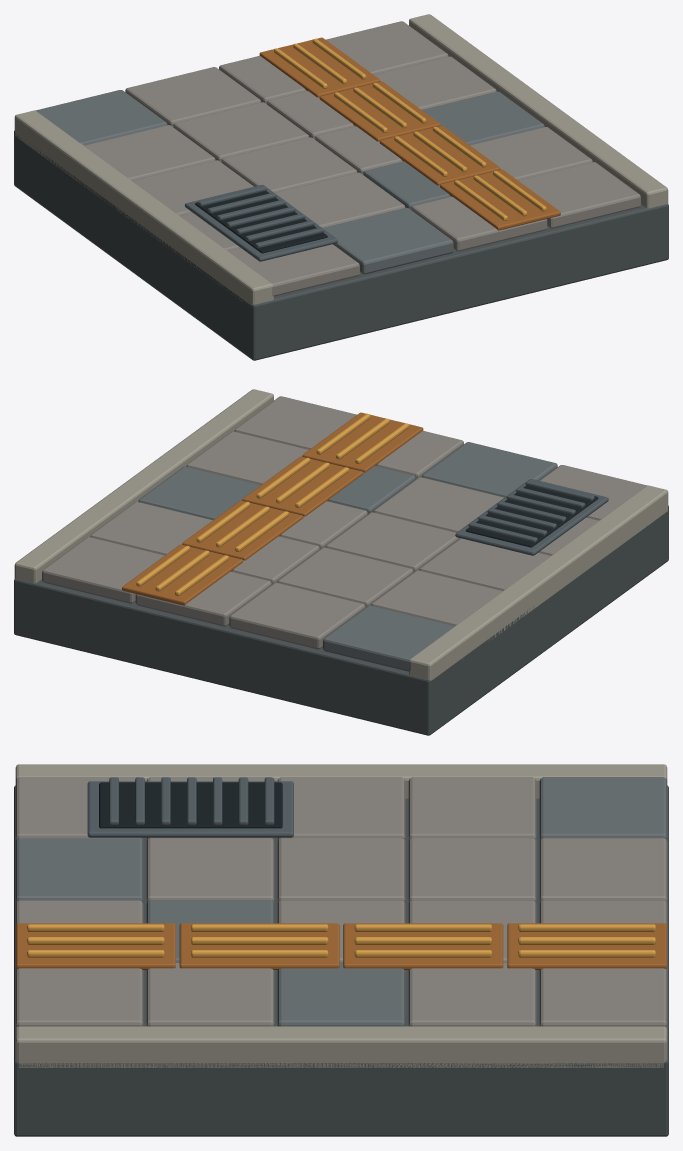
File: Trotoar.fbx
3 renders of one model, top to bottom at view 1: azimuth 30°, elevation 25°; view 2: azimuth 150°, elevation 25°; view 3: azimuth 270°, elevation 25°, orthographic. The views are drawn at different scales.
Visible parts, largest first — view 1: Trotoar; view 2: Trotoar; view 3: Trotoar.
Part boxes in pixels (x1,y1,x2,y2): Trotoar: (14,14,668,360); Trotoar: (14,389,668,735); Trotoar: (14,764,668,1136).
Size of the model in its own units: 200 by 37.3 by 200.
